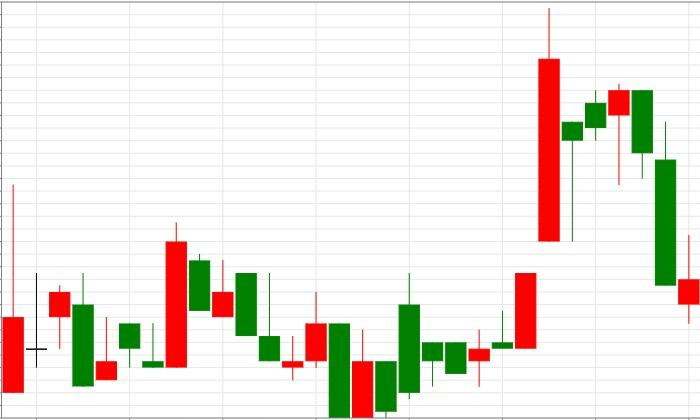hanging_man_fall: (468, 7, 629, 388)
morning_star_rise: (189, 253, 327, 380)
